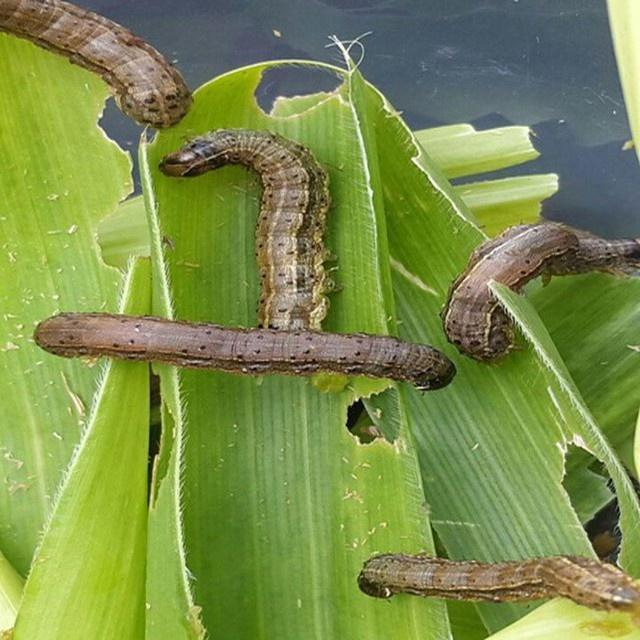gusano_cogollero: (32, 314, 458, 400), (0, 0, 195, 129), (352, 545, 640, 615)
